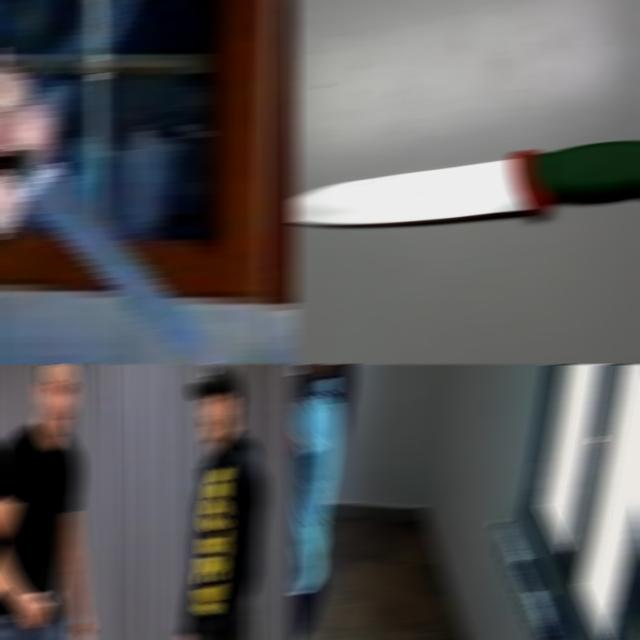Knife: (290, 141, 640, 225)
Knife_Handle: (0, 0, 225, 364), (19, 563, 59, 628)
